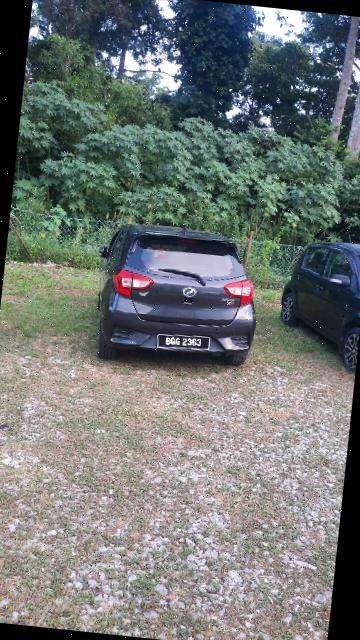License_Plate: (151, 328, 215, 356)
car: (89, 217, 268, 375)
